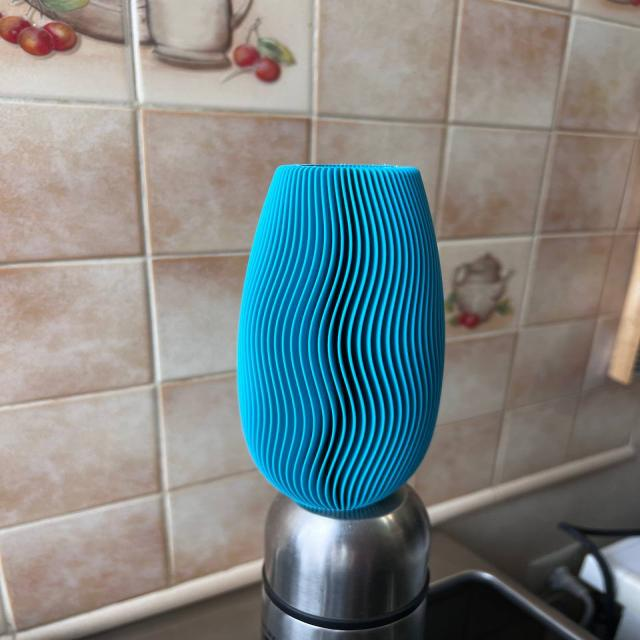Without deffect: (229, 146, 457, 529)
